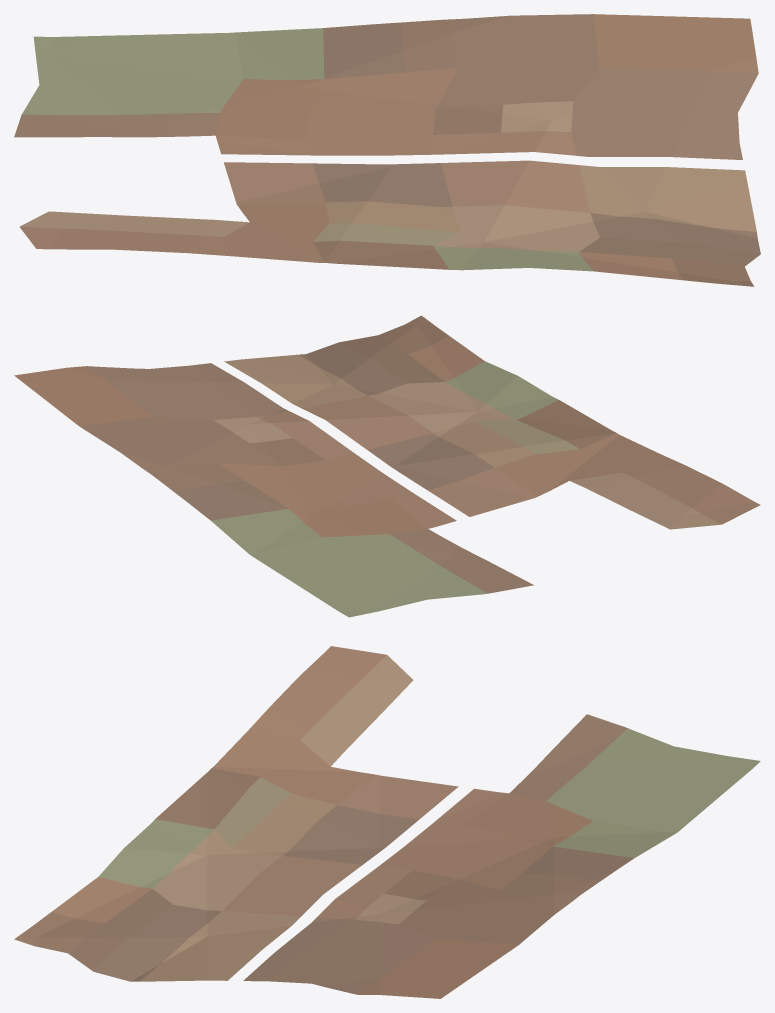
Rendered from farm_8_22_soil.glb.
3 views of the same model, one above another, from view 1: azimuth 30°, elevation 25°; view 2: azimuth 150°, elevation 25°; view 3: azimuth 270°, elevation 25° (orthographic). The views are drawn at different scales.
Parts seen in each view (by area): view 1: geometry_0; view 2: geometry_0; view 3: geometry_0.
Boxes of the visible parts, x1,y1,x2,y2 form: geometry_0: (14,14,760,286); geometry_0: (14,315,760,617); geometry_0: (14,646,760,998).
Bounding box in the file's own units: 384 × 29.2 × 345.
